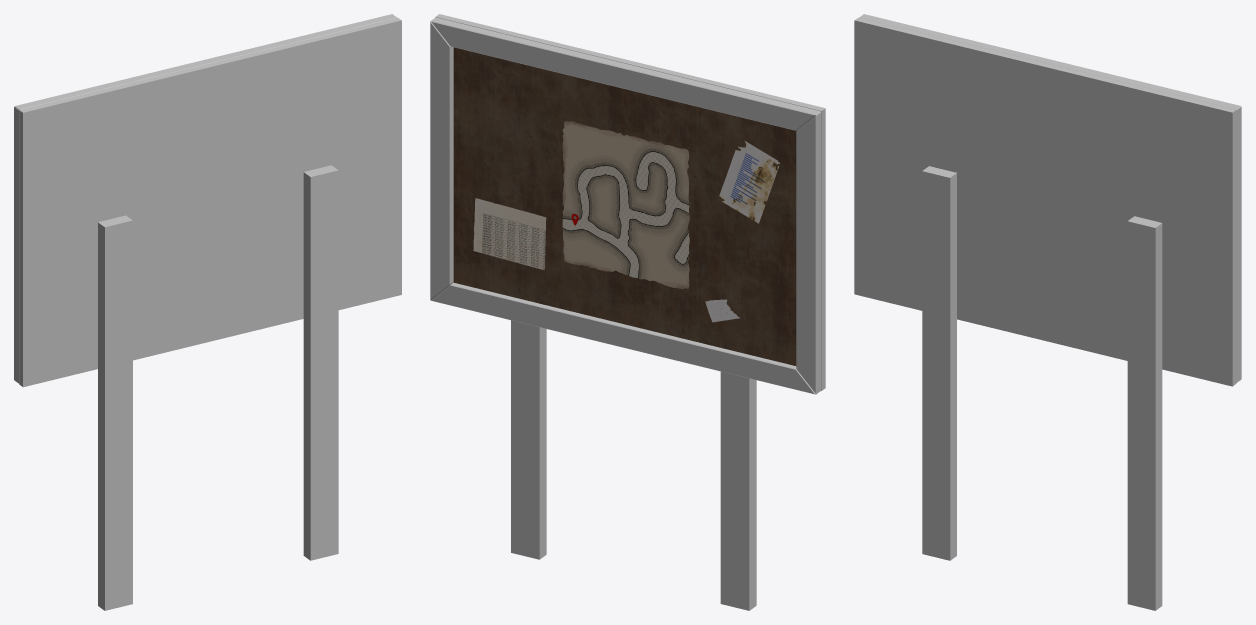
The model's file is map3.obj.
The picture shows the model from 3 angles, left to right: view 1: azimuth 30°, elevation 25°; view 2: azimuth 150°, elevation 25°; view 3: azimuth 330°, elevation 25°; orthographic projection. The views are drawn at different scales.
Parts seen in each view (by area): view 1: map3.008; view 2: map3.008, map3.003, map3.001, map3.004; view 3: map3.008.
Boxes of the visible parts, <box> form: map3.008: <box>14,14,401,610</box>; map3.008: <box>430,14,825,610</box>; map3.003: <box>562,121,689,288</box>; map3.001: <box>473,198,546,270</box>; map3.004: <box>719,141,780,223</box>; map3.008: <box>854,14,1241,610</box>.
Bounding box in the file's own units: 1.6 × 2.07 × 0.1193.
